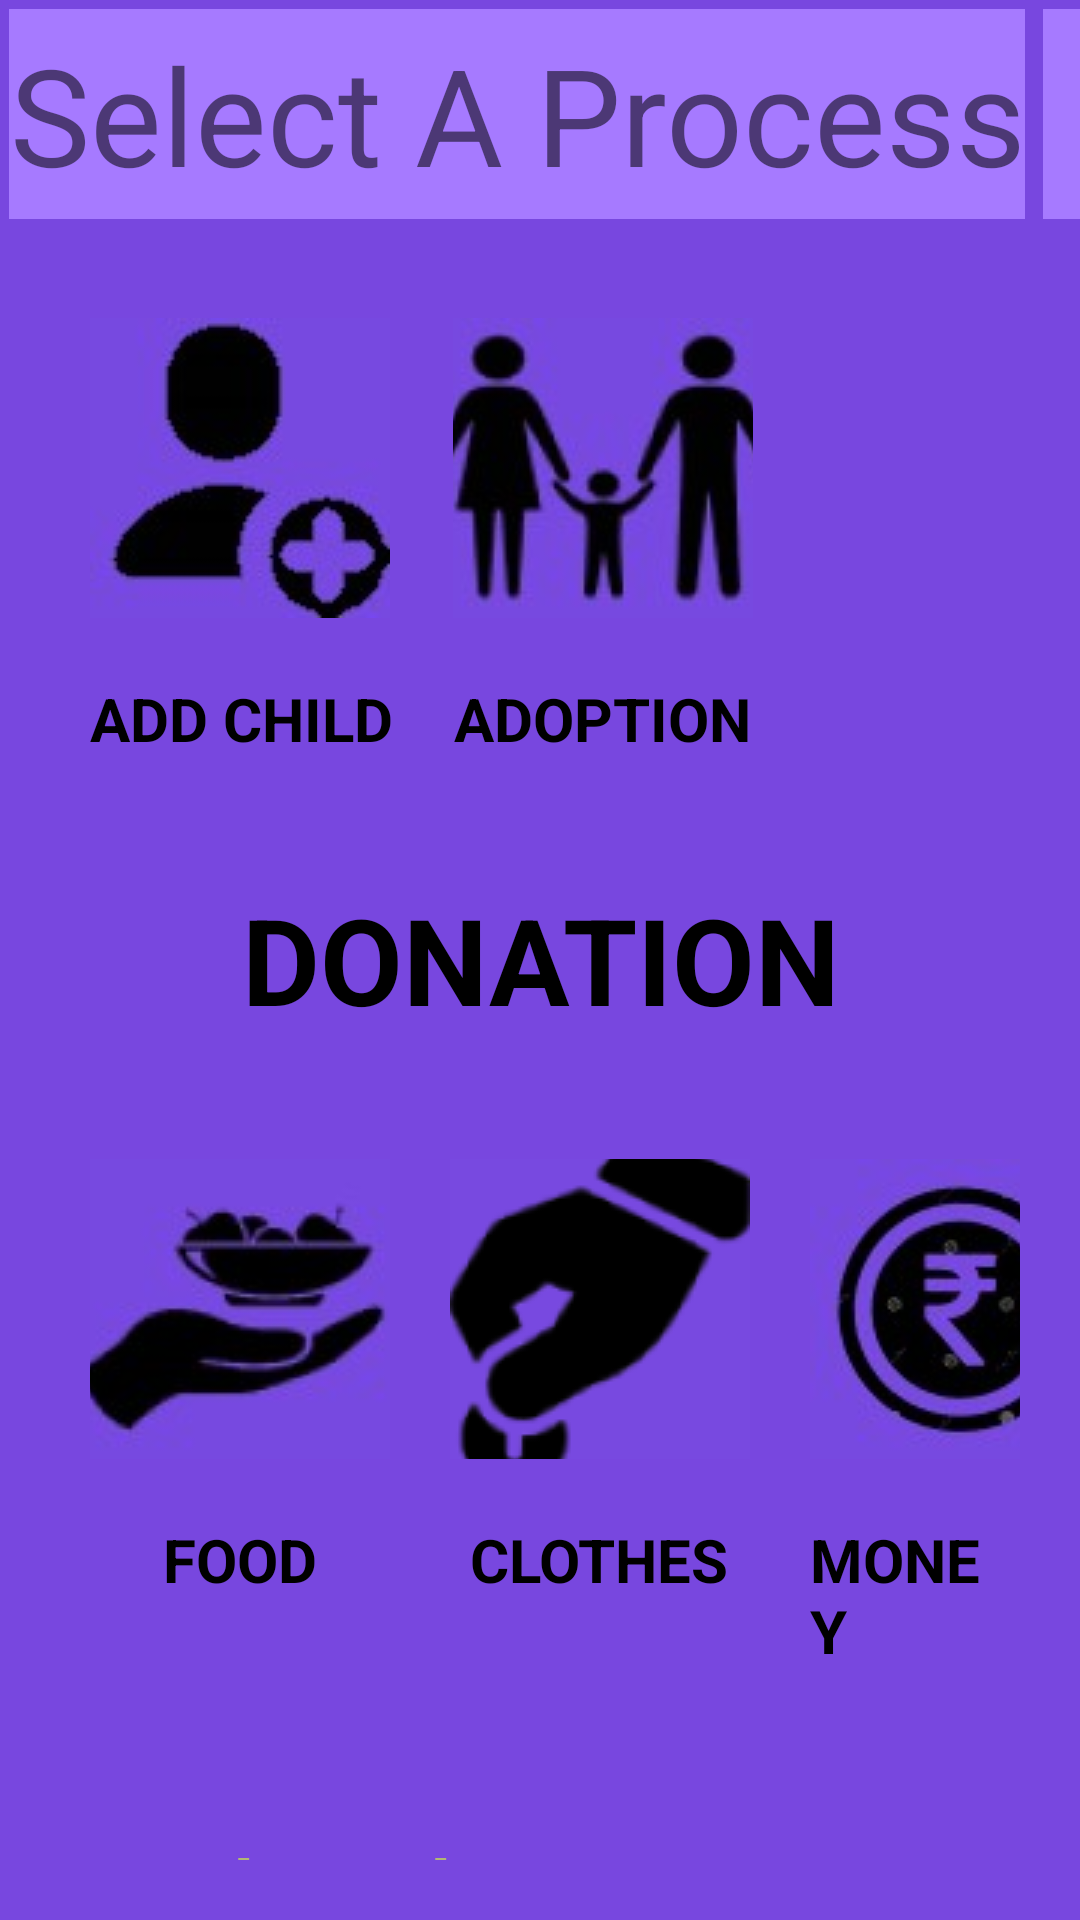

Icons on this 1080px x 1920px Android screen, each with the point to tap as (x,y):
join: (250,470)
